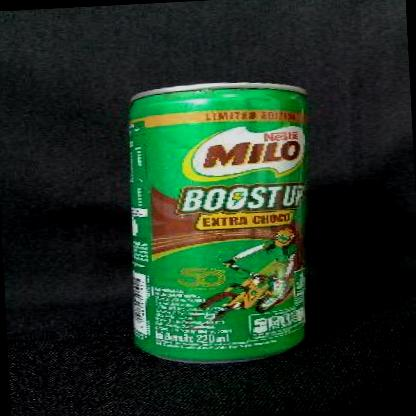alumunium_can: (122, 78, 322, 367)
